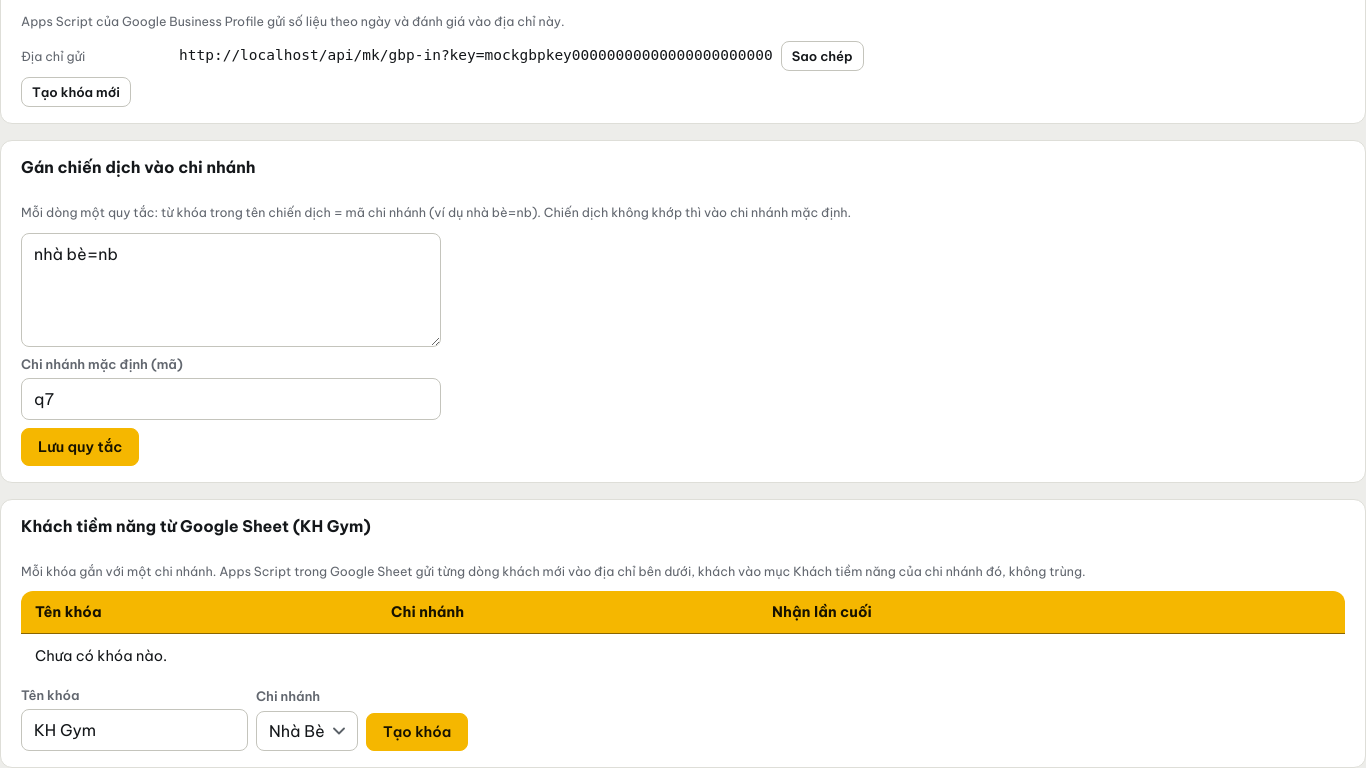
Test: marketing auto panel › shows a lead key once after creating it and hides the controls without permission
Later steps or results of the test are not shown.
(page scrolled)
Click the button "Tạo khóa". click: click(417, 732)
box: 366,713 -> 468,751
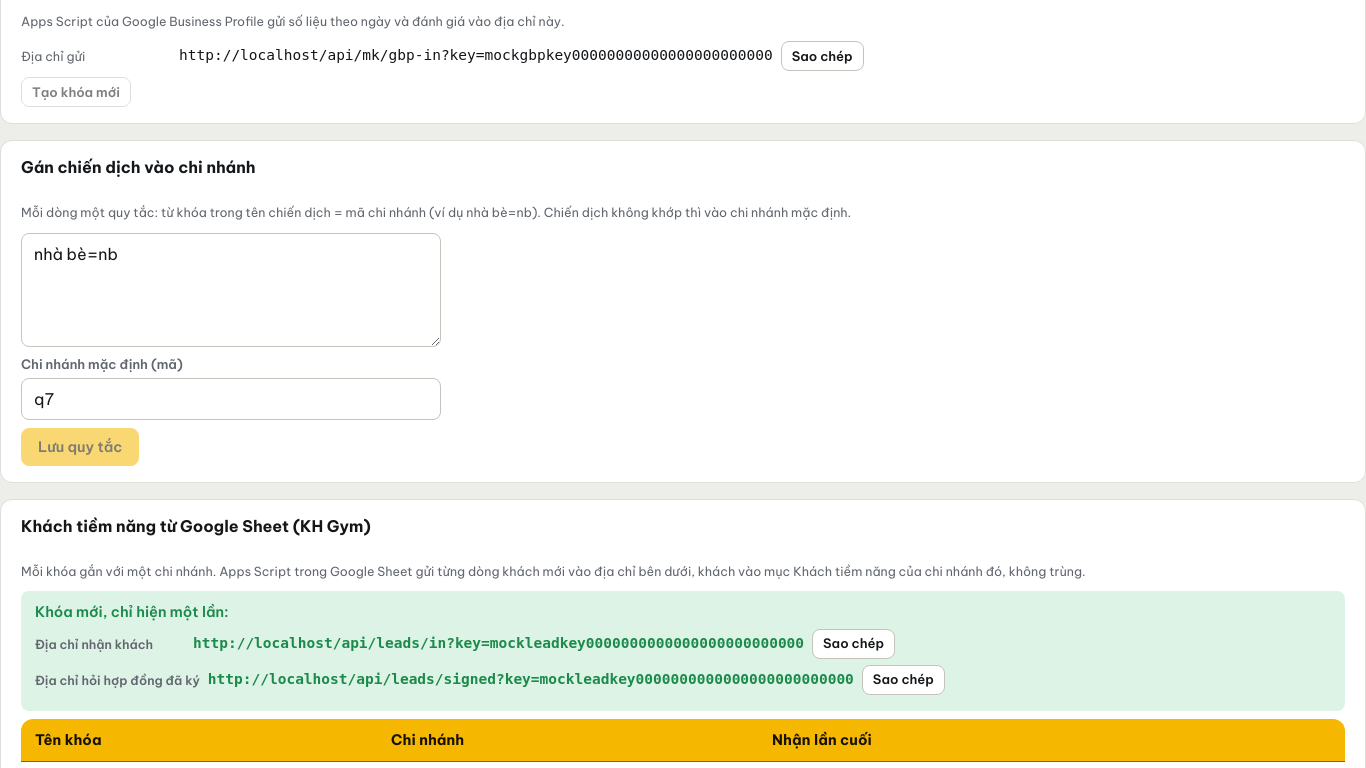
Check: the text "/api/leads/in?key=mockleadkey" is shown, box 193,635 -> 804,651
Check: the text "/api/leads/signed?key=mockleadkey" is shown, box 208,671 -> 854,687
